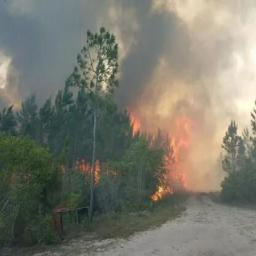Low smoke: (4, 0, 231, 108)
Medium fire: (136, 118, 199, 202)
Small fire: (74, 156, 113, 184)
